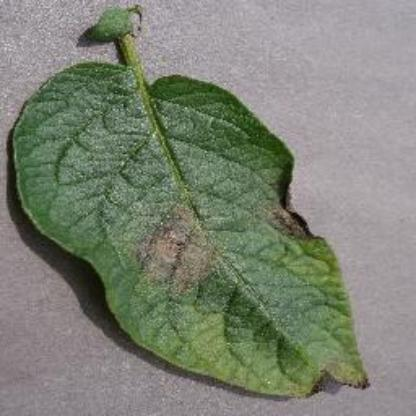Late-Blight: (2, 25, 388, 402)
